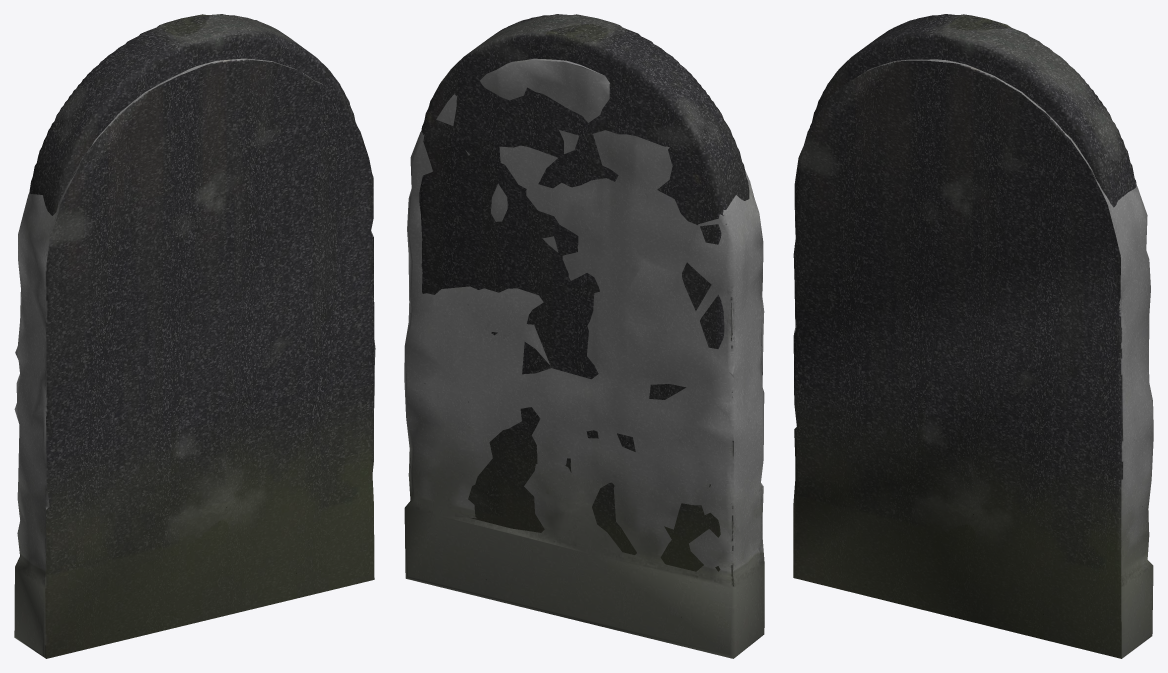
Rendered from midRound.glb.
3 renders of one model, left to right at view 1: azimuth 30°, elevation 25°; view 2: azimuth 150°, elevation 25°; view 3: azimuth 330°, elevation 25°, orthographic.
Parts seen in each view (by area): view 1: midRound_b, midRound_a; view 2: midRound_b, midRound_a; view 3: midRound_b, midRound_a.
Boxes of the visible parts, x1,y1,x2,y2 form: midRound_b: (14,58,375,658); midRound_a: (29,14,356,215); midRound_b: (404,58,764,658); midRound_a: (419,14,749,571); midRound_b: (793,59,1153,658); midRound_a: (810,14,1136,207).
Size of the model in its own units: 0.6056 by 1.01 by 0.1031.
Materials: 2 (2 with a texture image).
